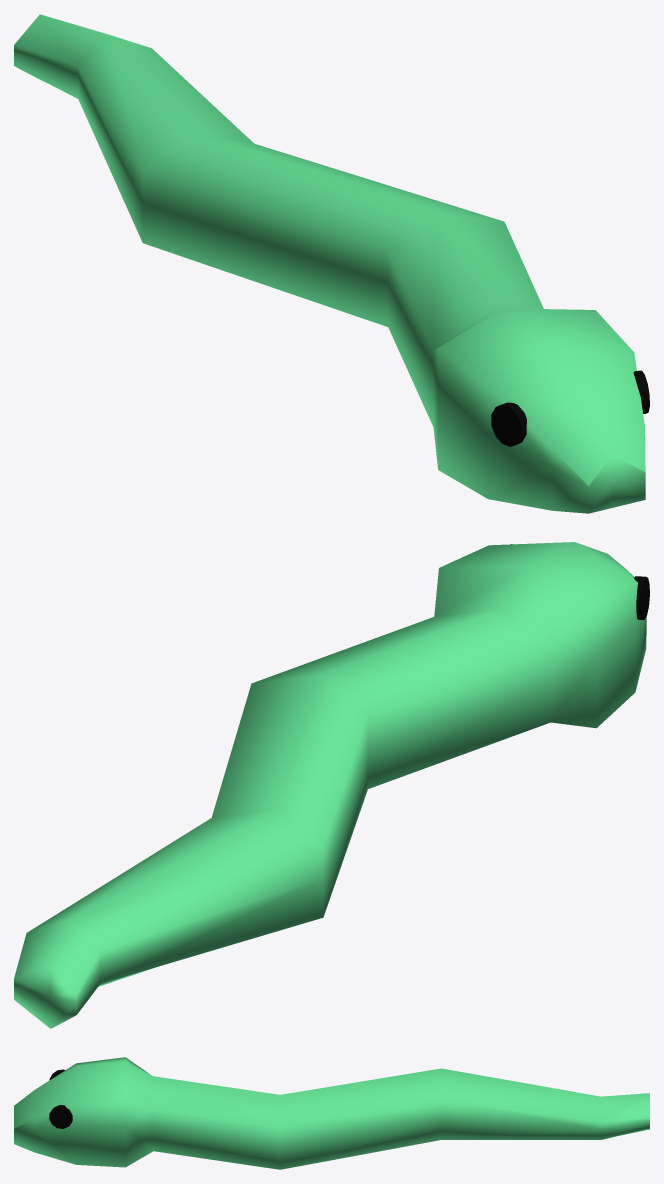
File: MOD_snake.fbx
3 views of the same model, one above another, from view 1: azimuth 30°, elevation 25°; view 2: azimuth 150°, elevation 25°; view 3: azimuth 270°, elevation 25° (orthographic). The views are drawn at different scales.
Visible parts, largest first — view 1: MOD_snake; view 2: MOD_snake; view 3: MOD_snake.
Boxes of the visible parts, bbox=[...] form: MOD_snake: bbox=[14, 14, 649, 513]; MOD_snake: bbox=[14, 542, 649, 1028]; MOD_snake: bbox=[14, 1057, 649, 1169].
Size of the model in its own units: 41.05 by 26.56 by 188.
